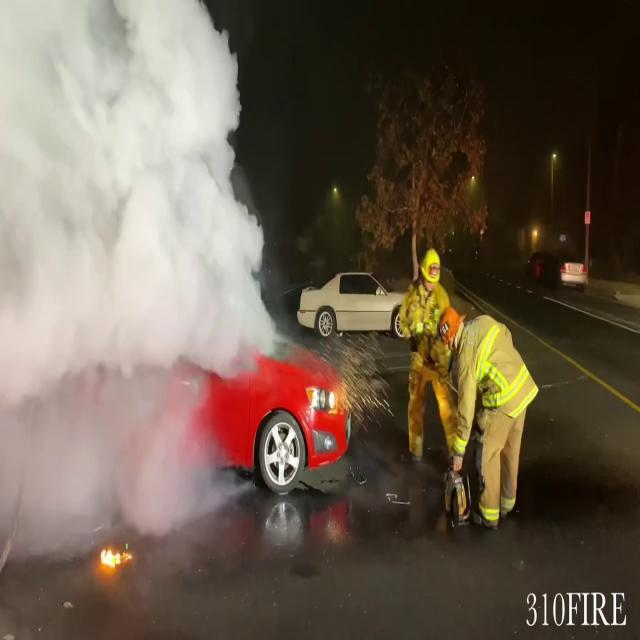Fire: (94, 536, 136, 576)
Smoke: (0, 1, 280, 558)
